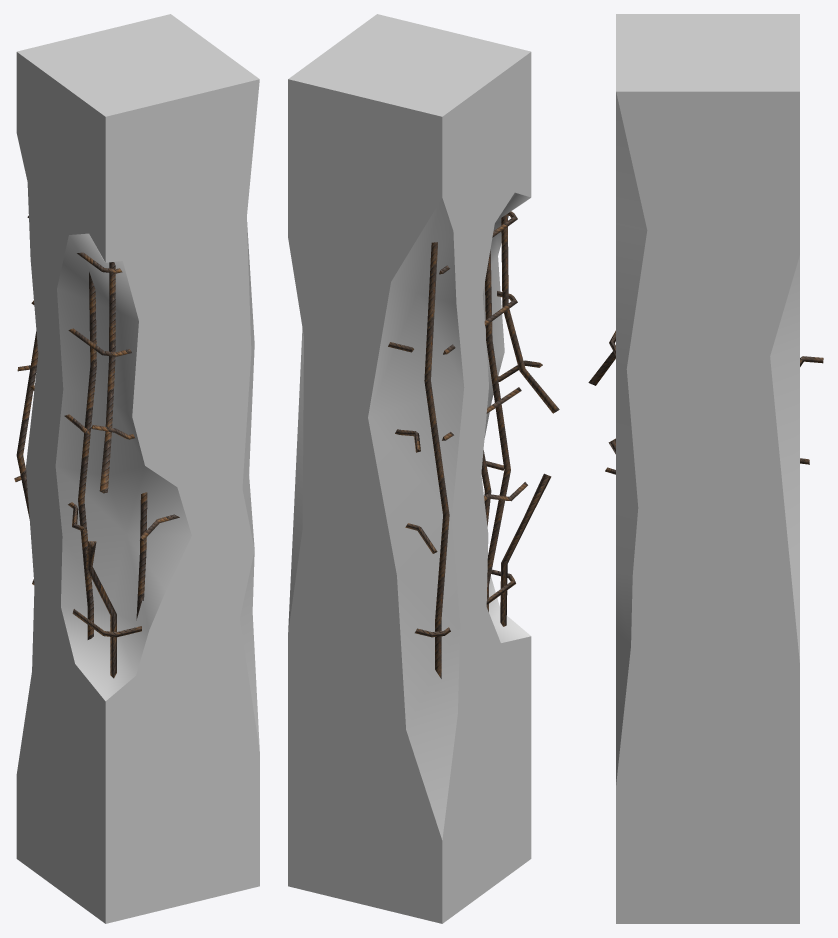
File: Debris5_LOD1.fbx
3 views of the same model, side by side, from view 1: azimuth 30°, elevation 25°; view 2: azimuth 150°, elevation 25°; view 3: azimuth 270°, elevation 25° (orthographic). The views are drawn at different scales.
Visible parts, largest first — view 1: polySurface1398; view 2: polySurface1398; view 3: polySurface1398.
Boxes of the visible parts, x1,y1,x2,y2 form: polySurface1398: (14,14,259,923); polySurface1398: (288,14,559,923); polySurface1398: (588,14,823,923).
Bounding box in the file's own units: 1.05 × 4.72 × 1.21.
